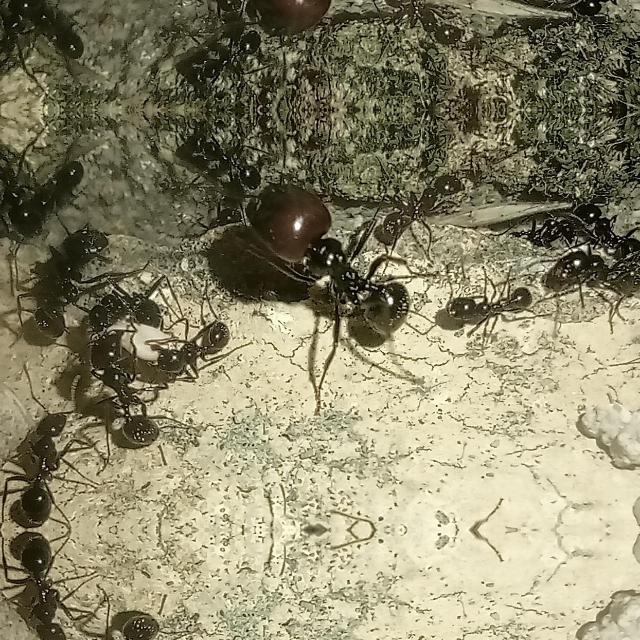Messor: (237, 162, 417, 342), (74, 329, 178, 469), (26, 210, 114, 348), (1, 392, 78, 528), (237, 0, 417, 55), (363, 168, 471, 258), (5, 150, 100, 250), (174, 116, 280, 202), (174, 16, 280, 102), (1, 530, 78, 640), (157, 302, 233, 388), (5, 0, 100, 68), (540, 239, 640, 303), (84, 276, 186, 332), (363, 0, 471, 49), (74, 590, 177, 640), (448, 275, 536, 331), (576, 188, 640, 250), (509, 210, 578, 256), (576, 0, 639, 30)
